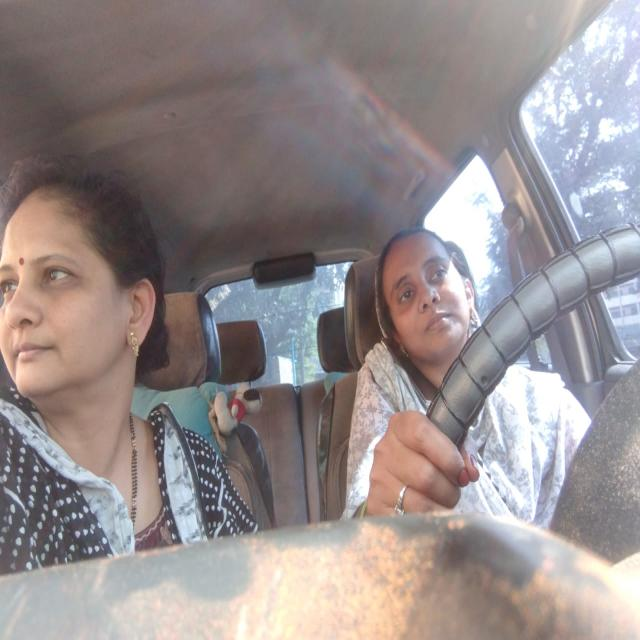mobile: (378, 332, 442, 399)
person: (0, 156, 175, 422), (376, 227, 481, 373)
